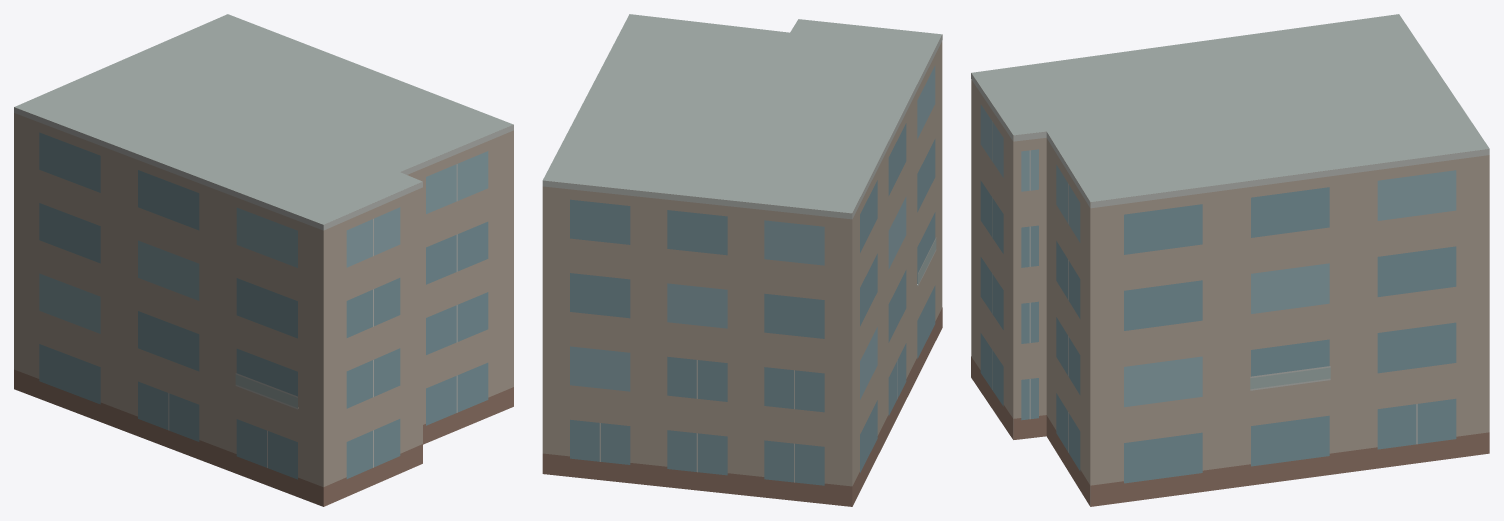
The model's file is survey-upis-32771995.glb.
3 views of the same model, side by side, from view 1: azimuth 30°, elevation 25°; view 2: azimuth 150°, elevation 25°; view 3: azimuth 270°, elevation 25° (orthographic). The views are drawn at different scales.
Visible parts, largest first — view 1: survey-upis-32771995.tmp; view 2: survey-upis-32771995.tmp; view 3: survey-upis-32771995.tmp.
Boxes of the visible parts, box(x1,y1,x2,y2) form: survey-upis-32771995.tmp: box(14, 14, 513, 506); survey-upis-32771995.tmp: box(542, 14, 942, 506); survey-upis-32771995.tmp: box(971, 14, 1489, 506).
Bounding box in the file's own units: 15.9 × 12 × 18.52.
